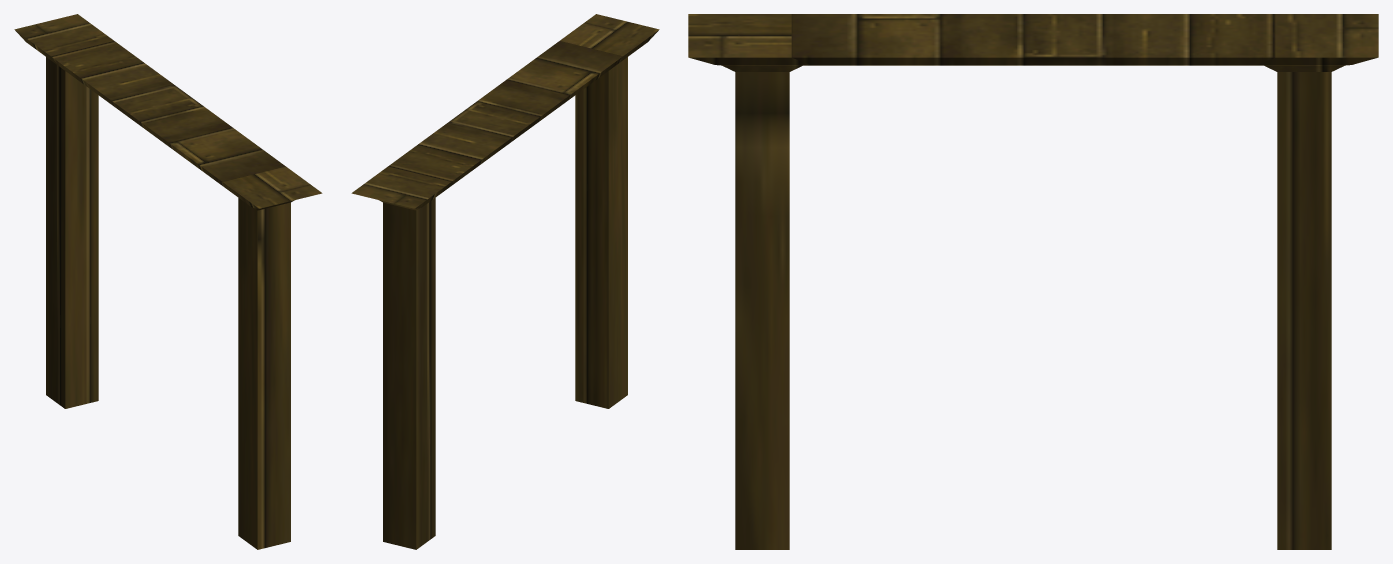
The model's file is fillar_v1.fbx.
The picture shows the model from 3 angles, left to right: view 1: azimuth 30°, elevation 25°; view 2: azimuth 150°, elevation 25°; view 3: azimuth 270°, elevation 25°; orthographic projection. The views are drawn at different scales.
Parts seen in each view (by area): view 1: Cube.003; view 2: Cube.003; view 3: Cube.003.
Boxes of the visible parts, x1,y1,x2,y2 form: Cube.003: (14,14,322,549); Cube.003: (351,14,659,549); Cube.003: (688,14,1378,549).
Size of the model in its own units: 38.1 by 205 by 255.
